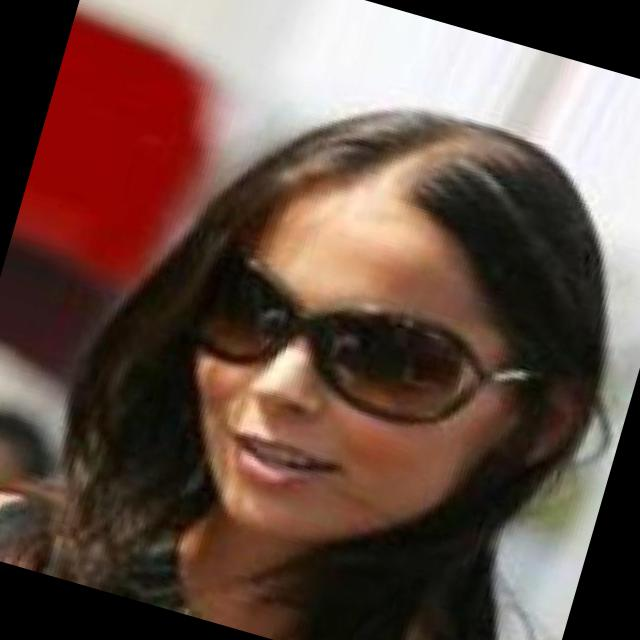bareface: (77, 58, 632, 640)
